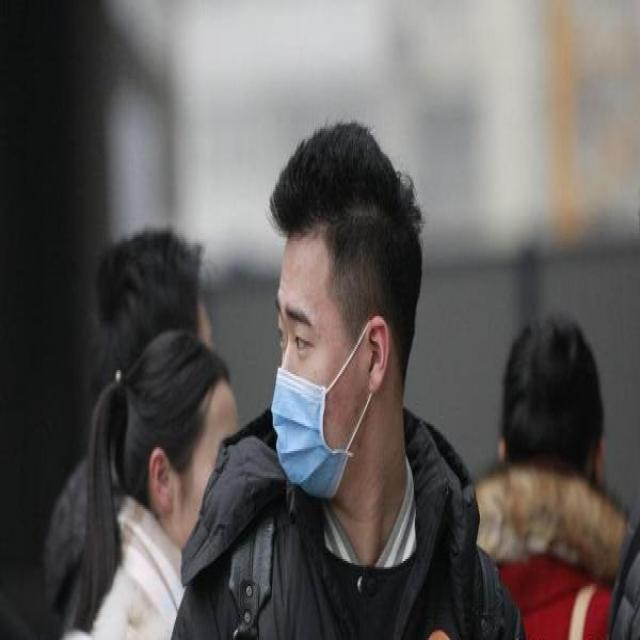mask: (269, 239, 371, 497)
